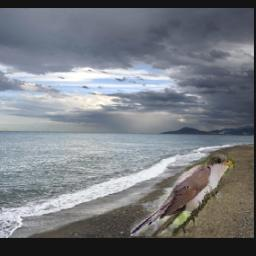Cuckoo: (131, 154, 235, 237)
